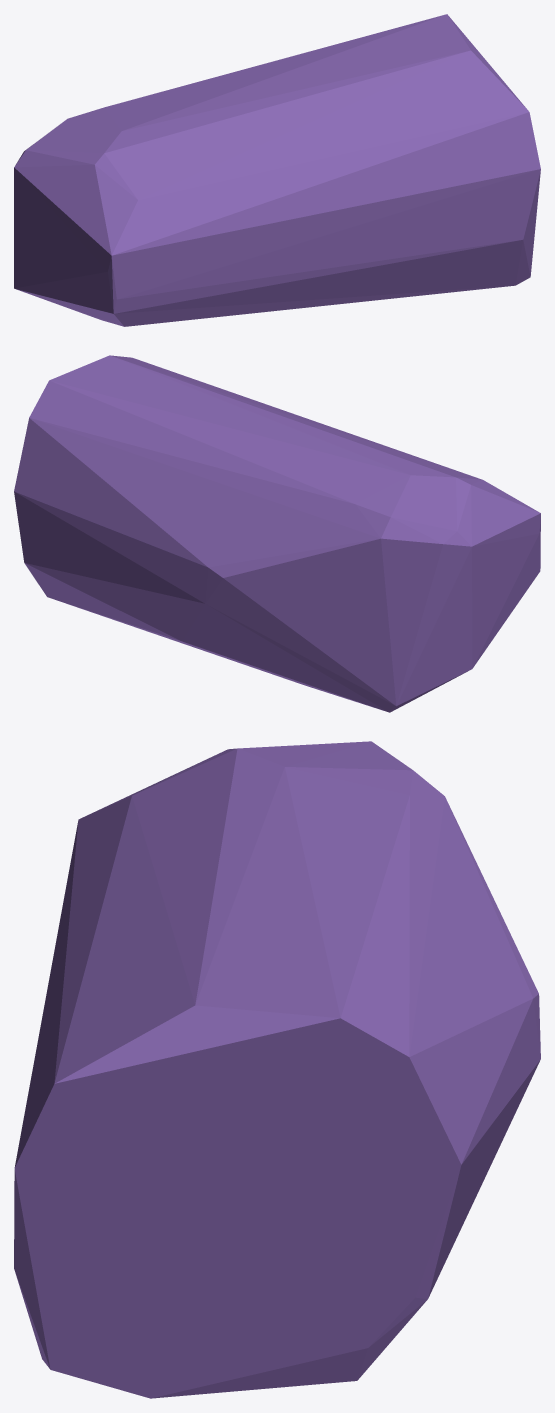
File: drivetrain_transmission_manual_a01.glb
3 renders of one model, top to bottom at view 1: azimuth 30°, elevation 25°; view 2: azimuth 150°, elevation 25°; view 3: azimuth 270°, elevation 25°, orthographic. The views are drawn at different scales.
Parts seen in each view (by area): view 1: geometry_0; view 2: geometry_0; view 3: geometry_0.
Part boxes in pixels (bbox=[...]): geometry_0: bbox=[14, 14, 540, 326]; geometry_0: bbox=[14, 355, 540, 712]; geometry_0: bbox=[14, 741, 540, 1398].
Size of the model in its own units: 0.48 by 0.2378 by 0.2958.
